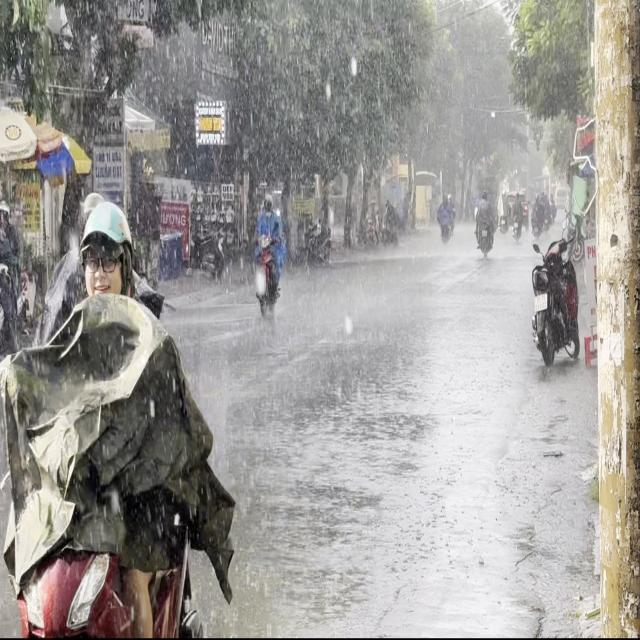helmet: (78, 198, 133, 294)
licenseplate: (0, 176, 236, 634)
